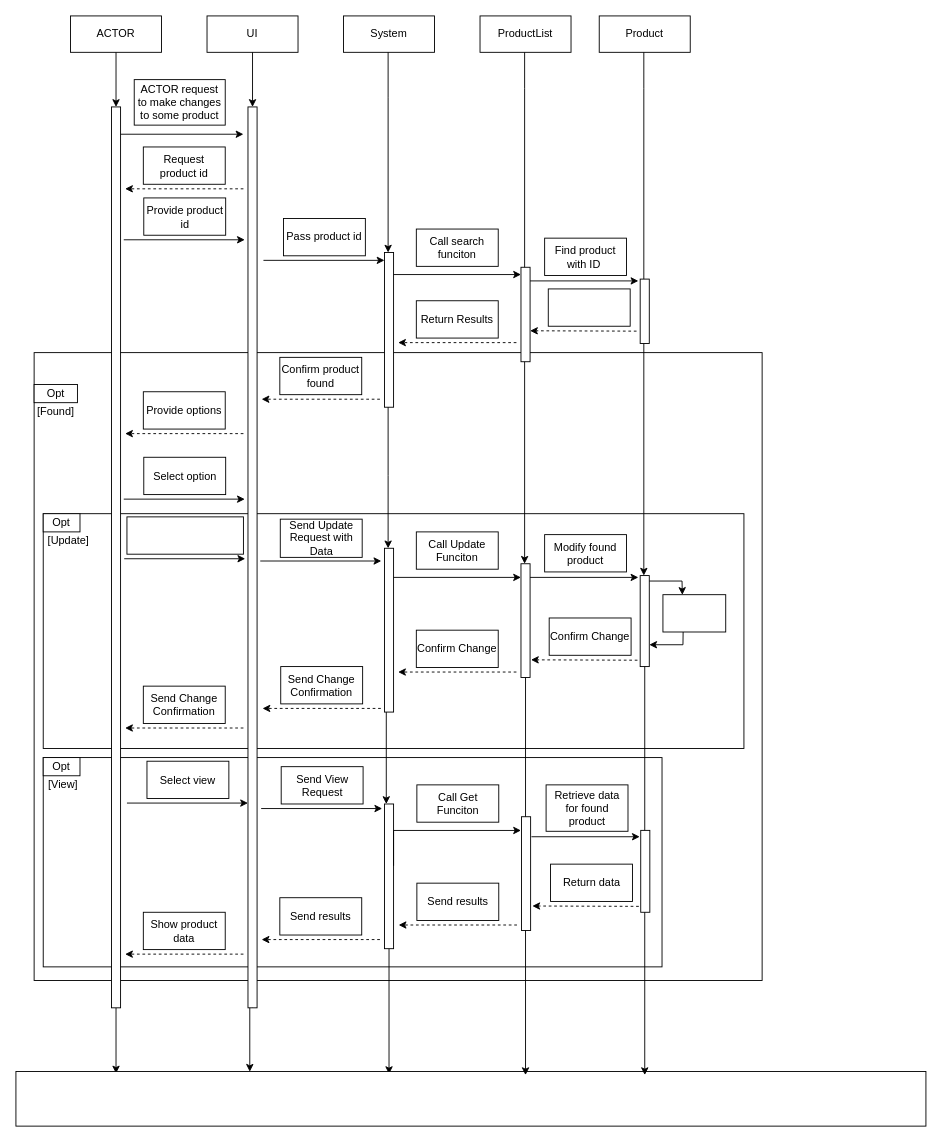
Some shapes in this 942 by 1142 pixel diagram are drawn without their labels. Each missing label, with the box of its shape:
Choose update and provide its new data: (126, 516, 243, 554)
Confirm product ID: (547, 288, 630, 326)
FINISH: (15, 1071, 926, 1126)
Update with new data: (662, 594, 726, 632)
